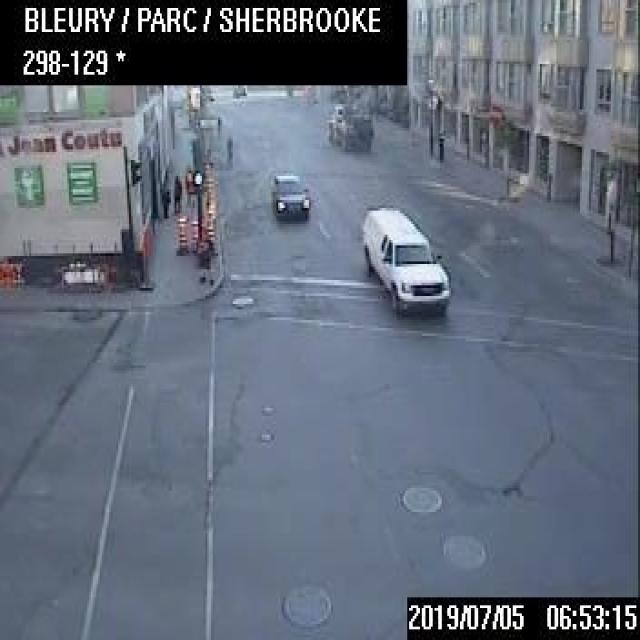construction: (0, 257, 15, 287), (176, 214, 187, 253), (205, 213, 216, 252), (189, 217, 197, 250)
pedestrian: (198, 228, 214, 285), (159, 179, 168, 217), (172, 173, 181, 211)
vehicle: (361, 205, 449, 318), (327, 99, 372, 149), (269, 172, 310, 220)
